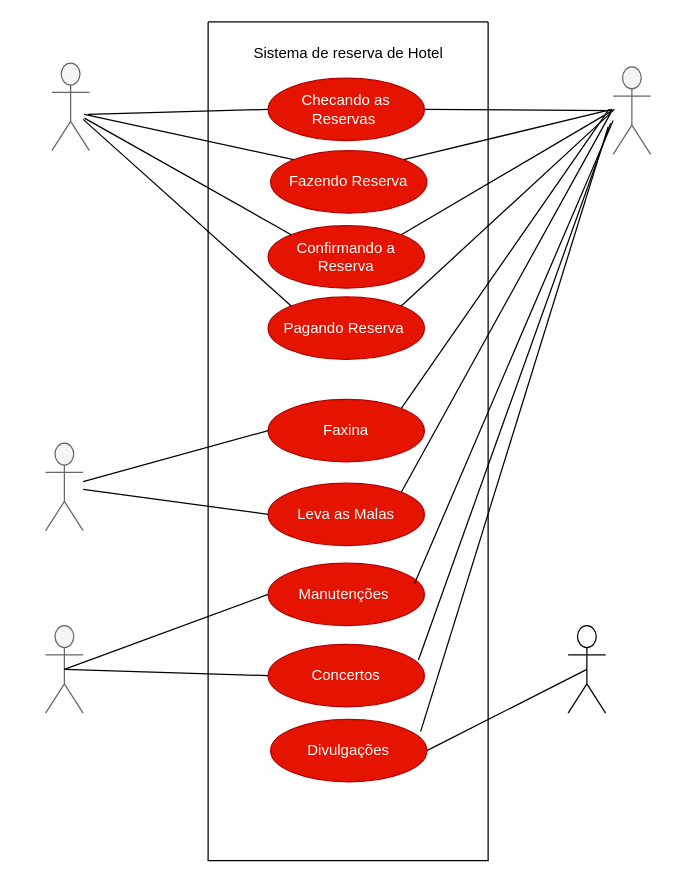
Some shapes in this 673 by 883 pixel diagram are drawn without their labels. Here are the shapes that lost their labels. From the top down, the centre of each, then its label:
At [70,106]: "Cliente".
At [631,110]: "Hotel".
At [63,486]: "Funcionários".
At [63,668]: "Técnicos".
At [586,668]: "Marketing".
